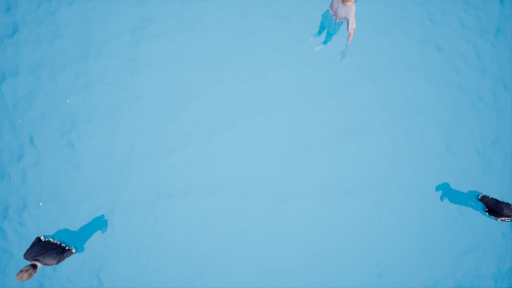person: (13, 217, 111, 284), (431, 179, 512, 227), (304, 2, 364, 60)
